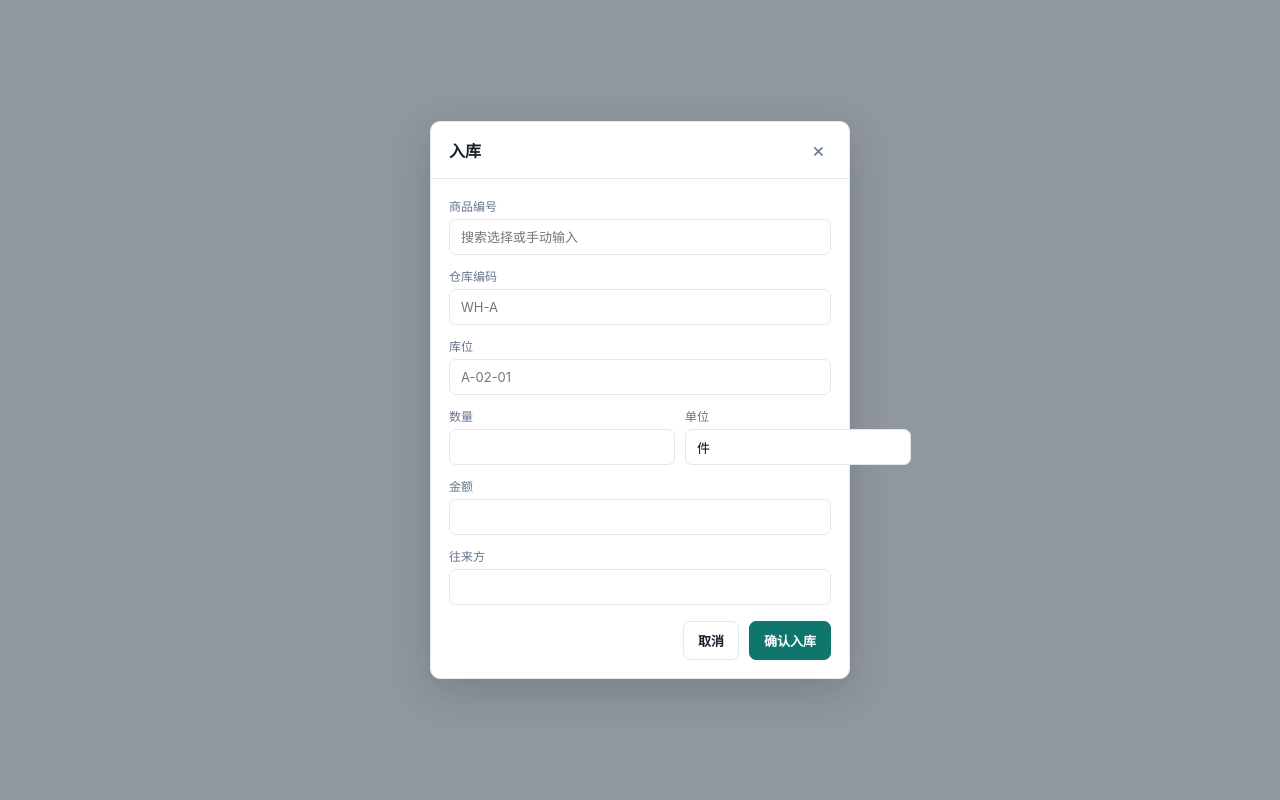
Test: EntryFormModal › picks a product from the options and uses its uid
Type "SKU-00" into the field with test id "product_uid" at [640, 237], box [449,219,831,255]
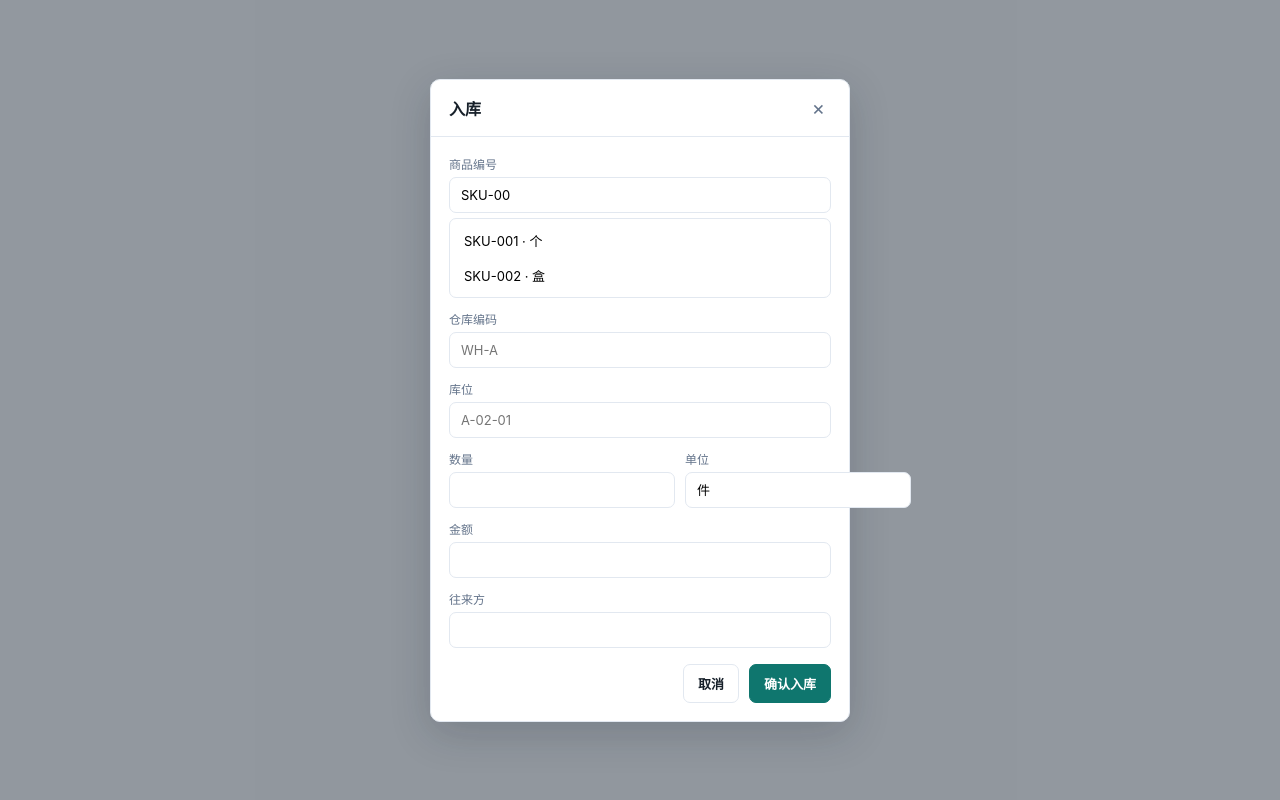
Click the button with test id "option-SKU-002" at [505, 276], box [454,258,826,292]
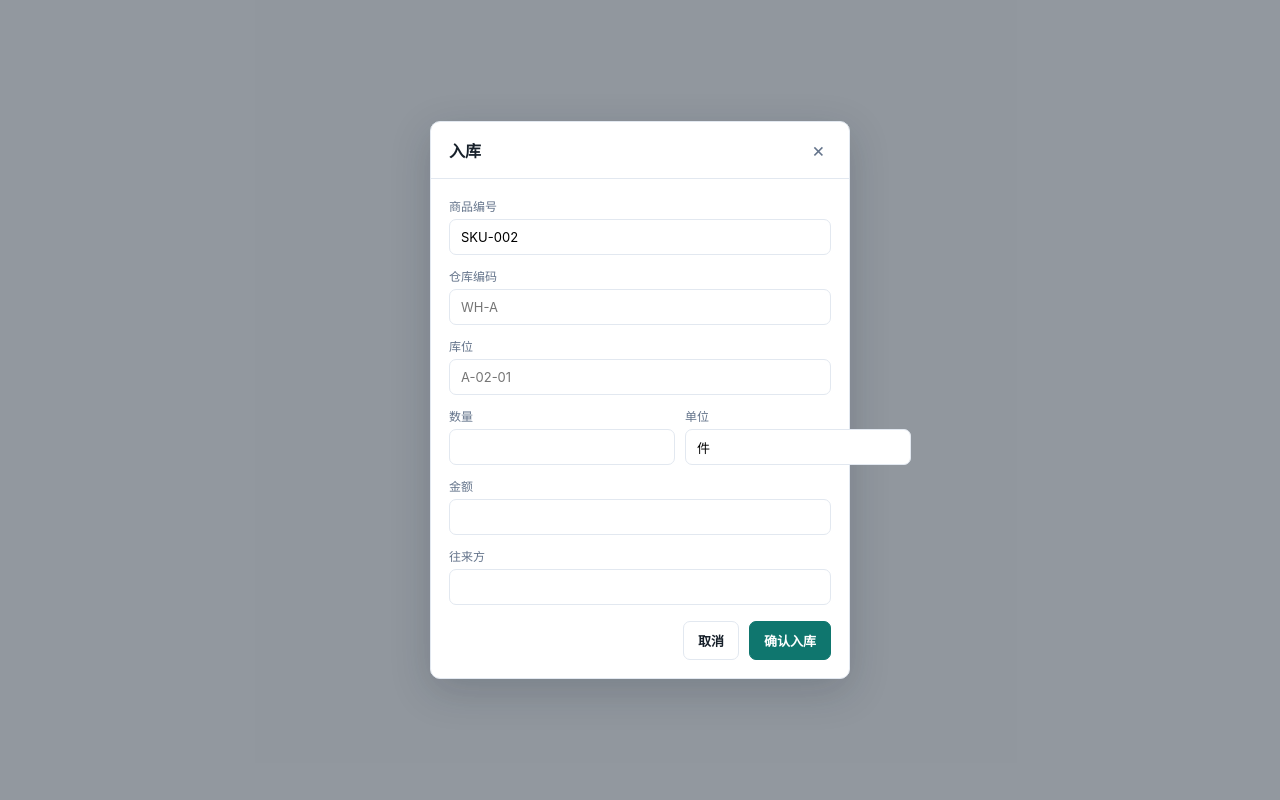
Result: the field with test id "product_uid" holds "SKU-002" at [449,219,831,255]
